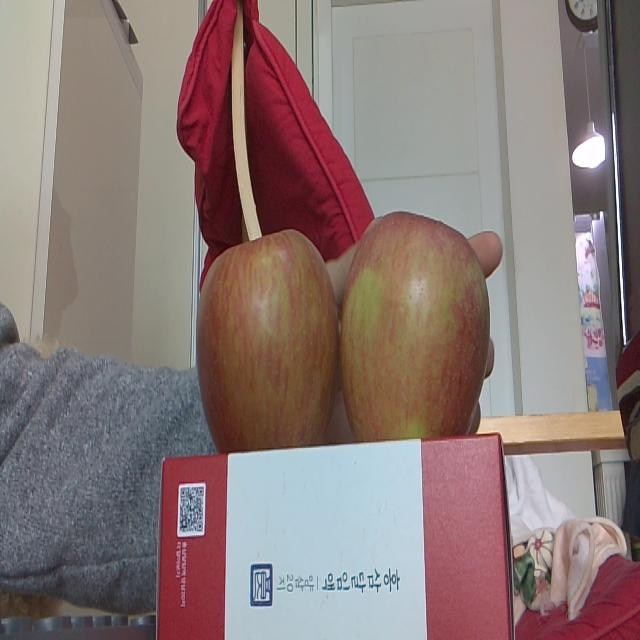apple: (342, 213, 488, 437), (198, 230, 336, 445)
